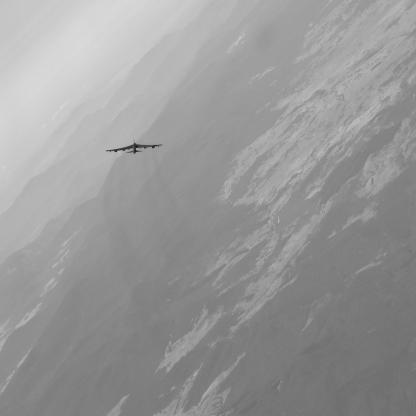B52: (107, 139, 165, 155)
